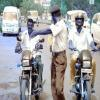motorcycles: (18, 48, 40, 99), (73, 42, 92, 100)
